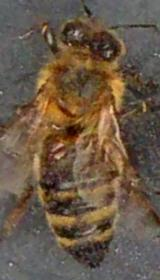varroa_mite: (41, 140, 72, 164)
